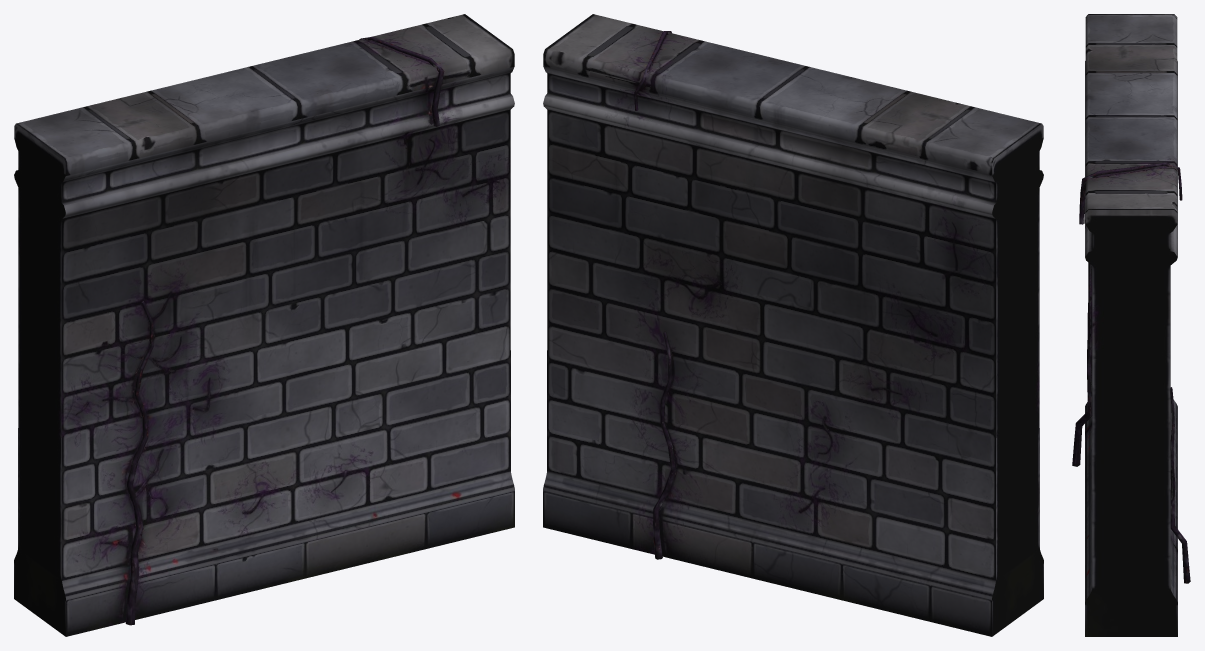
The model's file is thorn_wall_c.glb.
The picture shows the model from 3 angles, left to right: view 1: azimuth 30°, elevation 25°; view 2: azimuth 150°, elevation 25°; view 3: azimuth 270°, elevation 25°; orthographic projection. The views are drawn at different scales.
Parts seen in each view (by area): view 1: thorn_wall_c; view 2: thorn_wall_c; view 3: thorn_wall_c.
Part boxes in pixels (x1,y1,x2,y2): thorn_wall_c: [14, 14, 514, 636]; thorn_wall_c: [543, 14, 1043, 636]; thorn_wall_c: [1072, 14, 1190, 636].
Bounding box in the file's own units: 4 × 4.11 × 1.02.
1 material, 1 textured.
